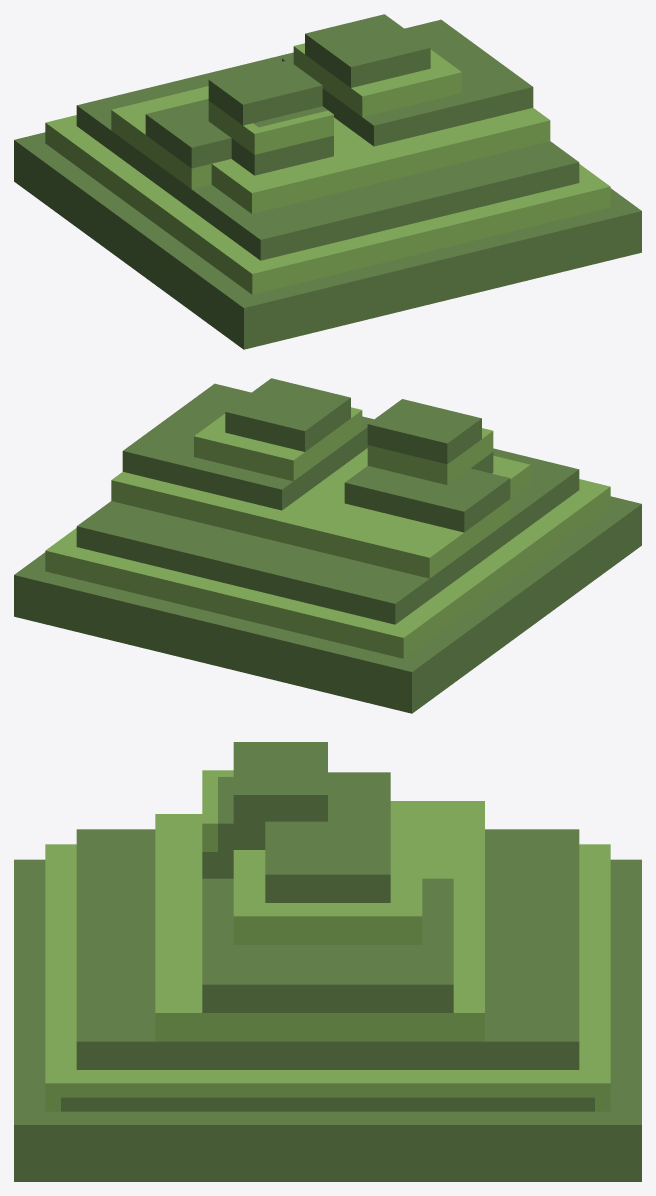
The model's file is terrain-hill1.obj.
The picture shows the model from 3 angles, top to bottom: view 1: azimuth 30°, elevation 25°; view 2: azimuth 150°, elevation 25°; view 3: azimuth 270°, elevation 25°; orthographic projection. The views are drawn at different scales.
Size of the model in its own units: 40 by 16 by 40.
Materials: 1 (1 with a texture image).
